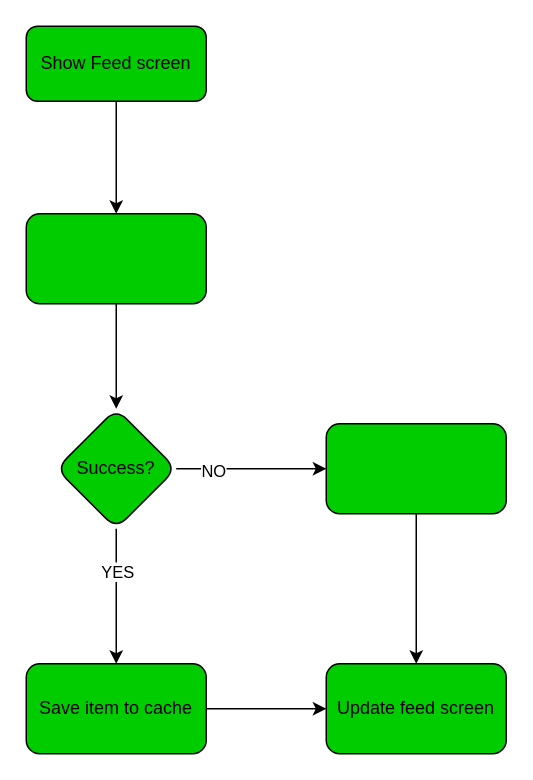
Some shapes in this 533 by 780 pixel diagram are drawn without their labels. Each missing label, with the centre of its shape:
"Fetch new items from remote" belongs at (x=115, y=258).
"Load items from cache" belongs at (x=415, y=468).
